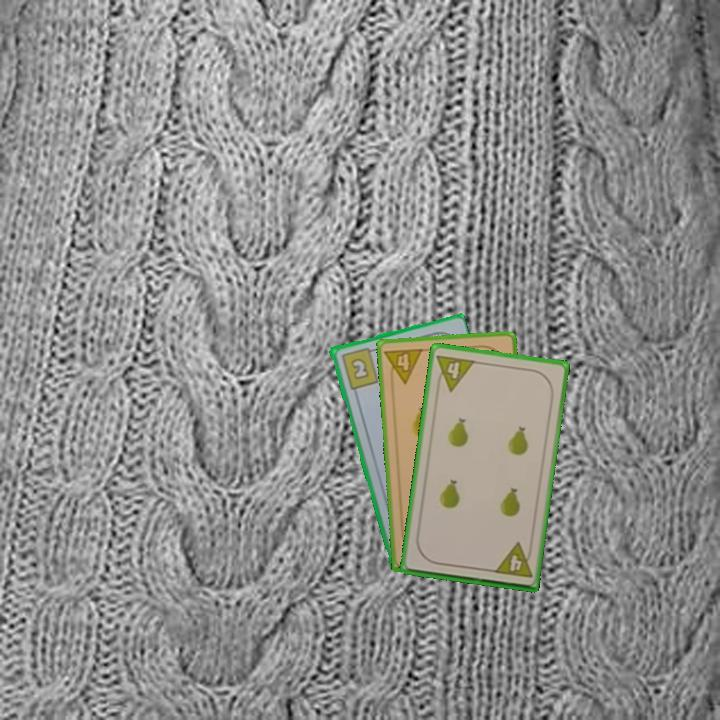2b: (337, 344, 381, 392)
4p: (432, 351, 478, 394), (381, 345, 426, 387), (490, 539, 535, 580)
